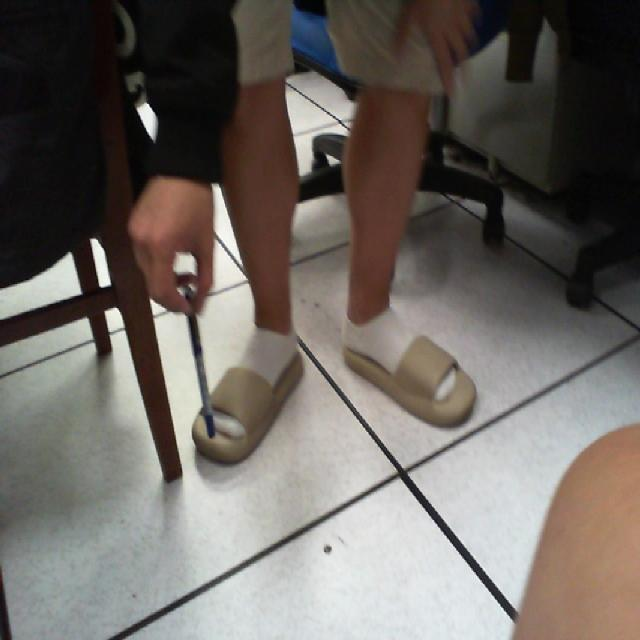Pen: (167, 270, 235, 463)
